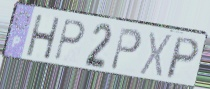2: (83, 22, 113, 71)
H: (25, 14, 62, 62)
P: (163, 35, 201, 81), (108, 26, 143, 73), (53, 18, 86, 63)
X: (138, 30, 174, 81)
